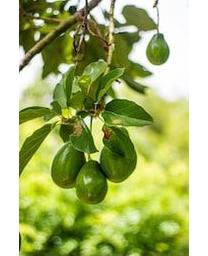avocado: (99, 129, 137, 184), (50, 142, 87, 190), (75, 160, 109, 204), (146, 33, 171, 66)
